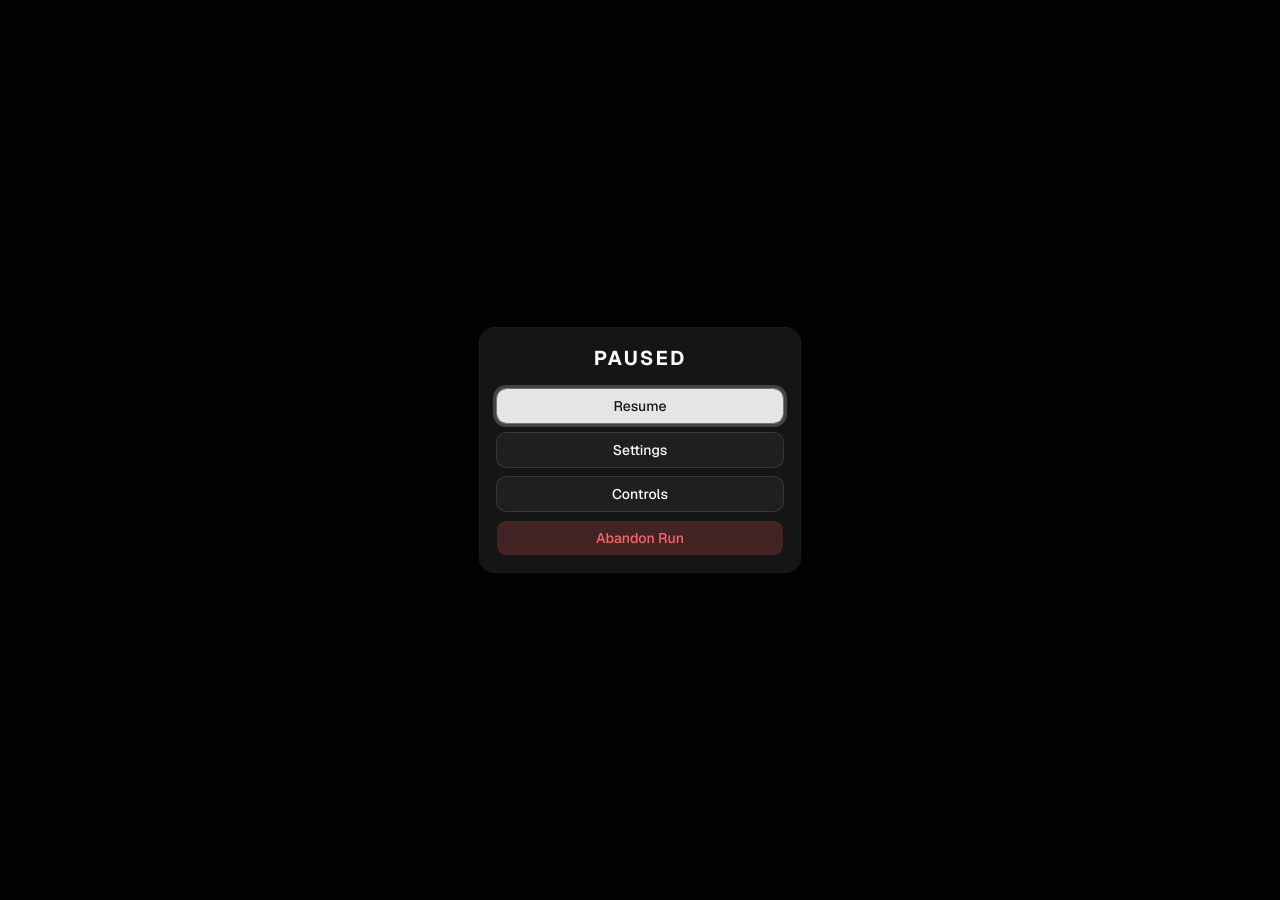
PauseMenu › Abandon Run button opens confirmation dialog
Click the button with test id "pause-abandon-btn": (640, 538) left=496, top=520, right=784, bottom=556
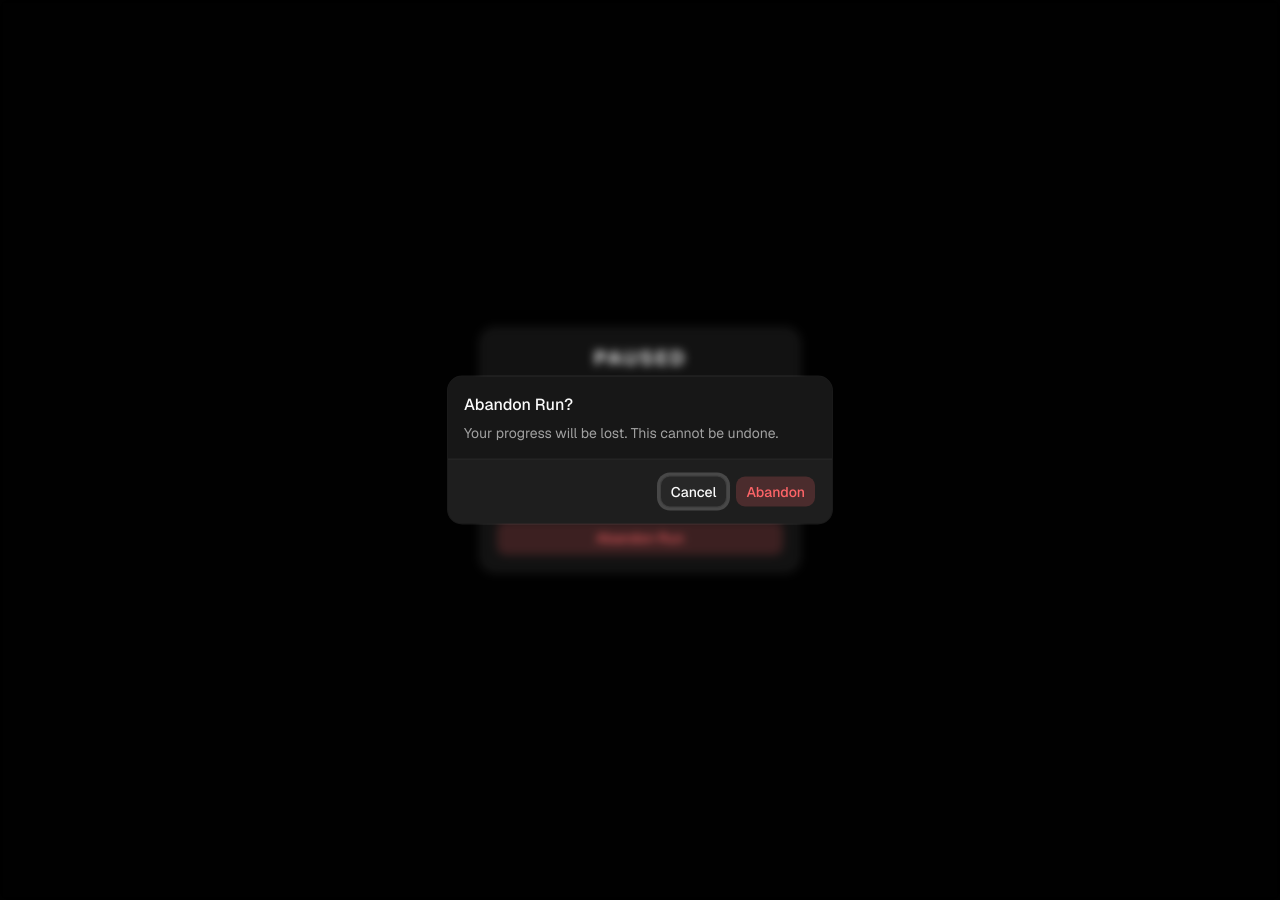
Check: the heading "Abandon Run?" is shown, box left=464, top=392, right=573, bottom=416
Check: the text "Your progress will be lost. This cannot be undone." is shown, box left=464, top=422, right=778, bottom=442
